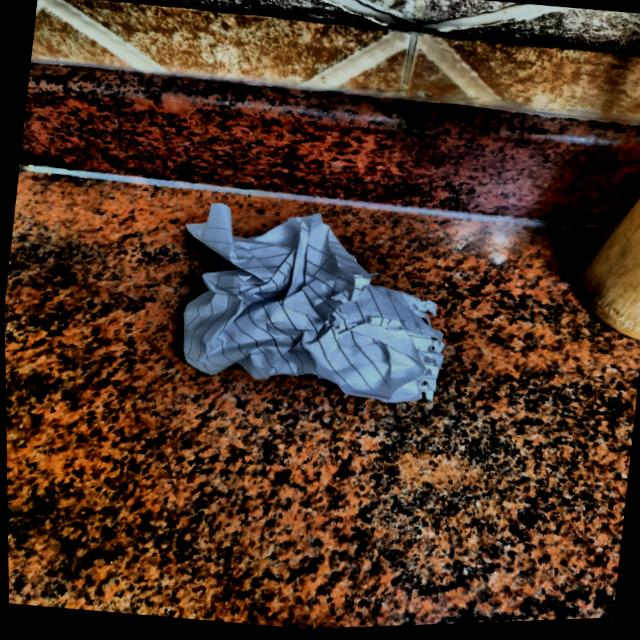Paper: (167, 188, 474, 415)
